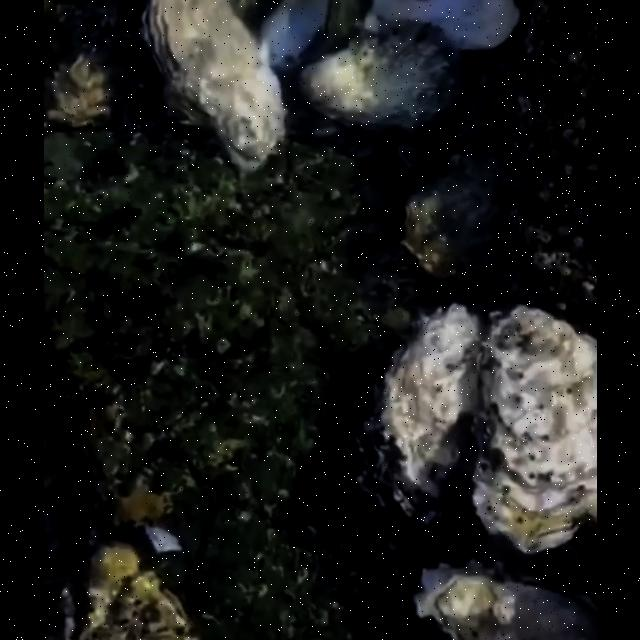Oyster-Closed: (470, 303, 596, 557), (138, 0, 286, 176), (298, 19, 460, 129), (411, 555, 596, 640), (52, 539, 198, 640), (398, 152, 510, 276), (42, 0, 127, 130), (357, 0, 521, 54), (256, 0, 327, 72)
Oyster-Open: (356, 302, 486, 536)
